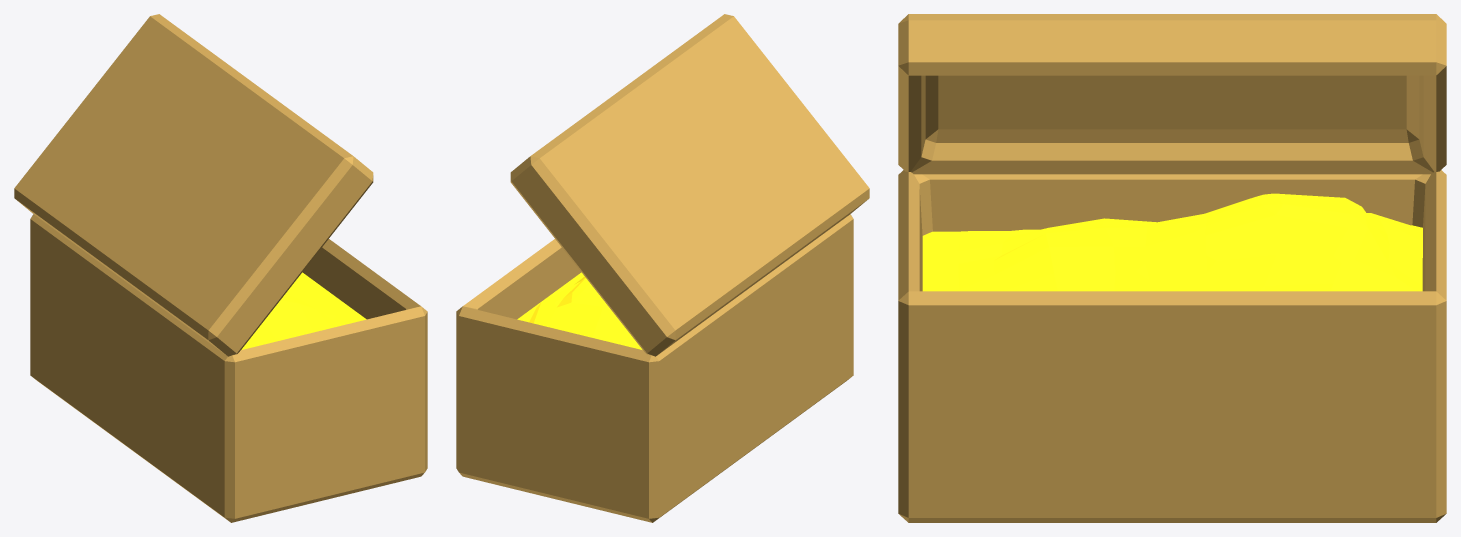
File: BoxGold.fbx
The picture shows the model from 3 angles, left to right: view 1: azimuth 30°, elevation 25°; view 2: azimuth 150°, elevation 25°; view 3: azimuth 270°, elevation 25°; orthographic projection. The views are drawn at different scales.
Visible parts, largest first — view 1: Куб.003; view 2: Куб.003; view 3: Куб.003.
Part boxes in pixels (bbox=[...]): Куб.003: bbox=[14, 14, 427, 522]; Куб.003: bbox=[456, 14, 869, 522]; Куб.003: bbox=[898, 14, 1446, 522].
Bounding box in the file's own units: 293 × 430 × 467.
